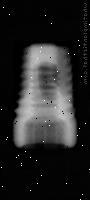Neoss: (13, 41, 78, 150)
